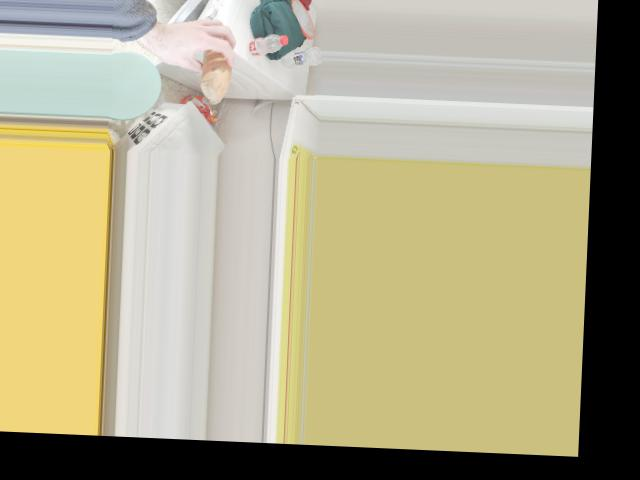sweet_potato: (201, 46, 232, 92)
